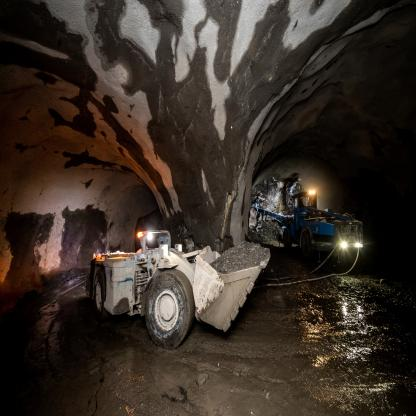bull_dozer/loader/grader: (84, 210, 278, 355)
